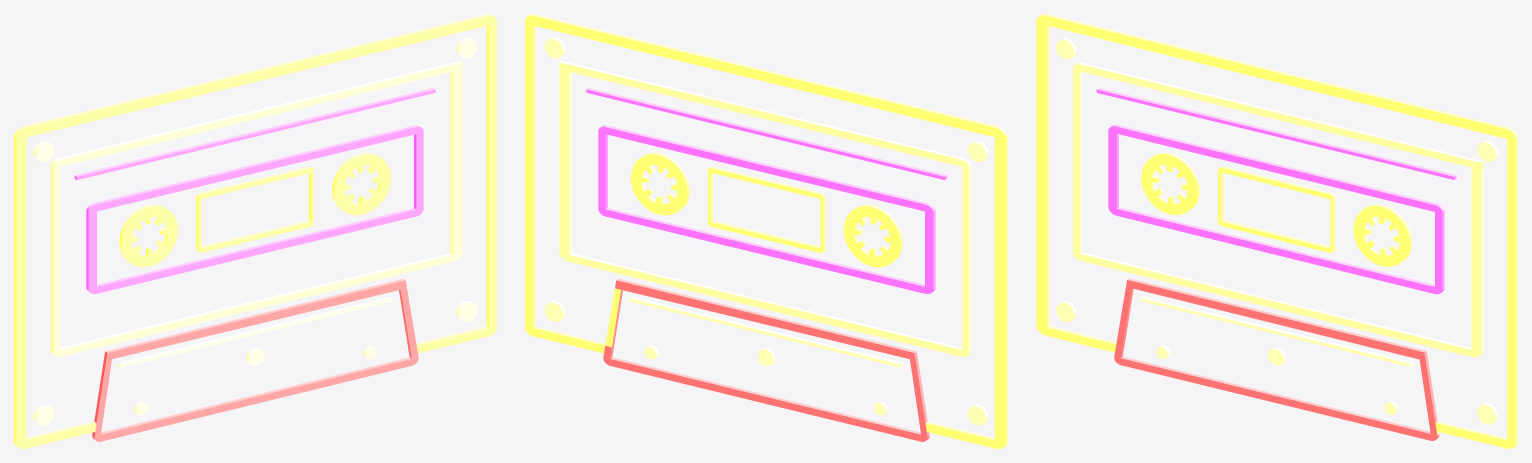
File: cassete_neon.glb
The picture shows the model from 3 angles, left to right: view 1: azimuth 30°, elevation 25°; view 2: azimuth 150°, elevation 25°; view 3: azimuth 330°, elevation 25°; orthographic projection.
Visible parts, largest first — view 1: Object_2, Object_6, Object_3, Object_5, Object_4; view 2: Object_2, Object_6, Object_3, Object_5, Object_4; view 3: Object_2, Object_6, Object_3, Object_5, Object_4.
Boxes of the visible parts, x1,y1,x2,y2 form: Object_2: (14,14,496,448); Object_6: (51,60,462,357); Object_3: (74,88,435,293); Object_5: (92,278,418,441); Object_4: (34,37,477,425); Object_2: (525,14,1007,448); Object_6: (559,60,970,357); Object_3: (586,88,947,293); Object_5: (603,278,929,441); Object_4: (544,37,987,425); Object_2: (1036,14,1517,448); Object_6: (1073,62,1483,357); Object_3: (1096,88,1456,294); Object_5: (1114,278,1439,440); Object_4: (1056,38,1497,424).
Size of the model in its own units: 7.45 by 4.92 by 0.0619.
